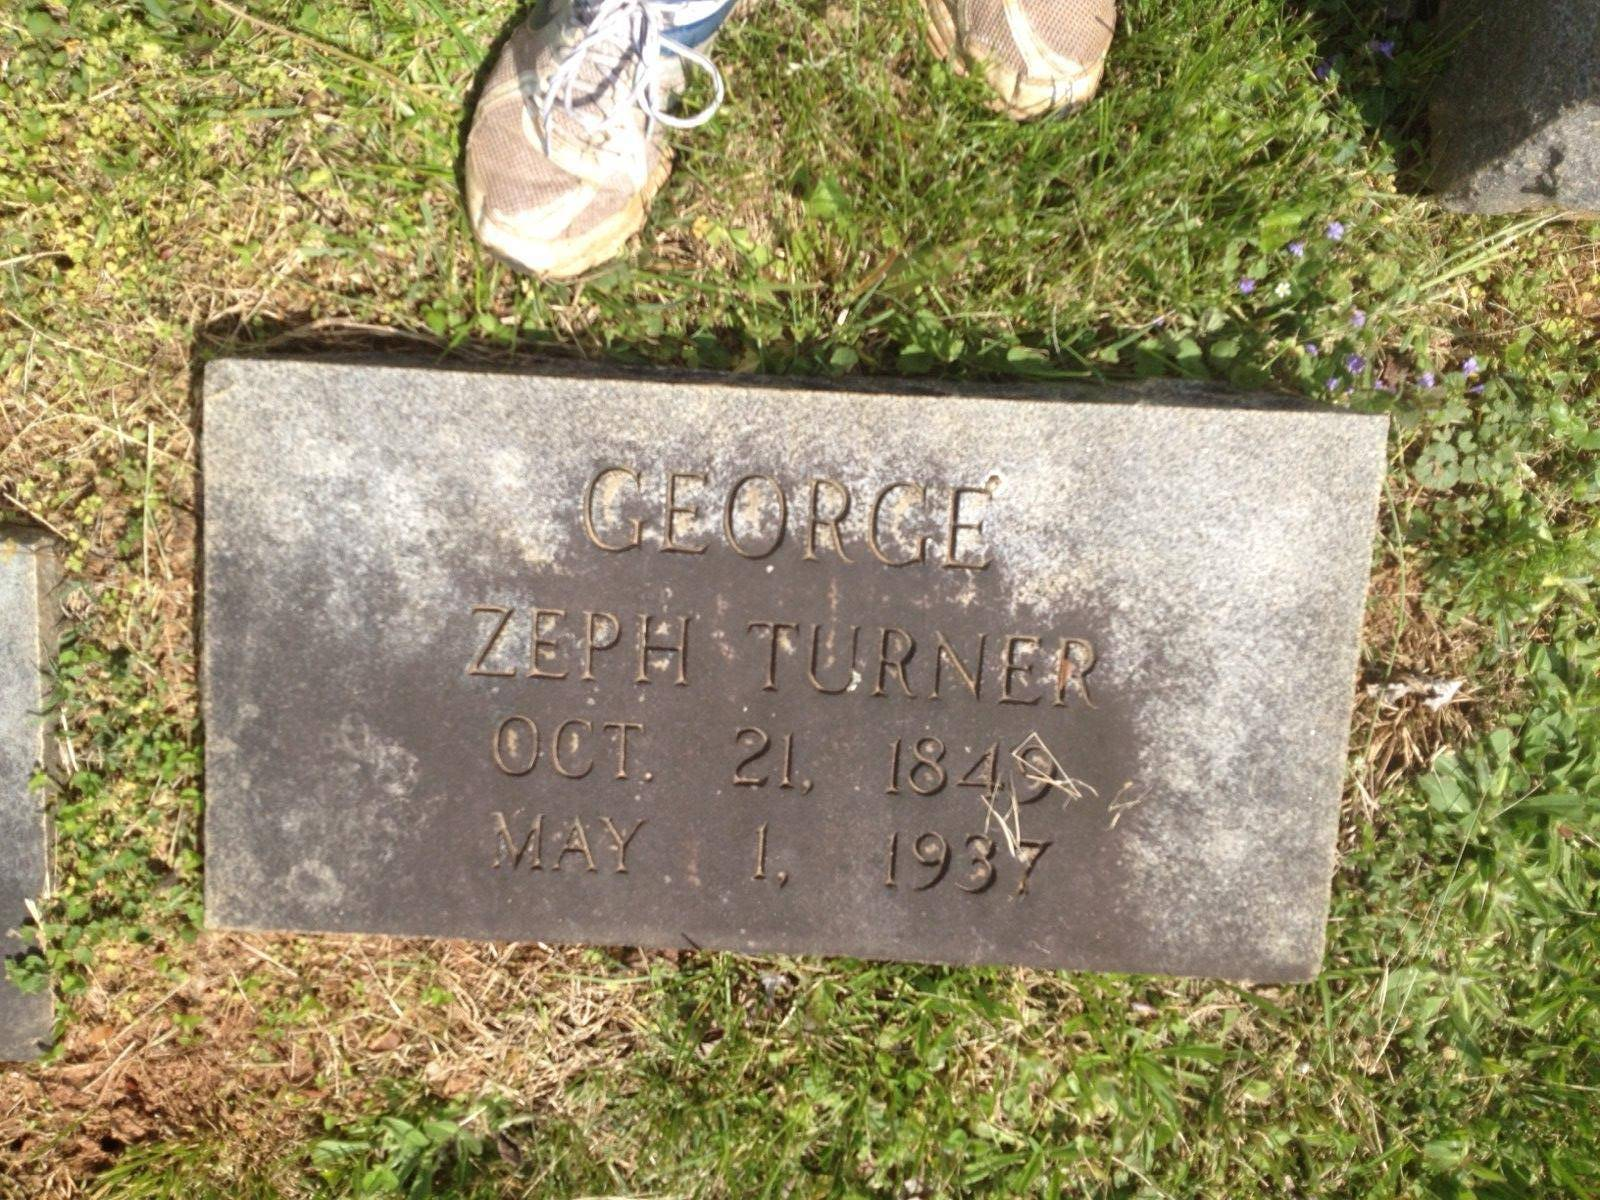flat: (200, 333, 1390, 986)
